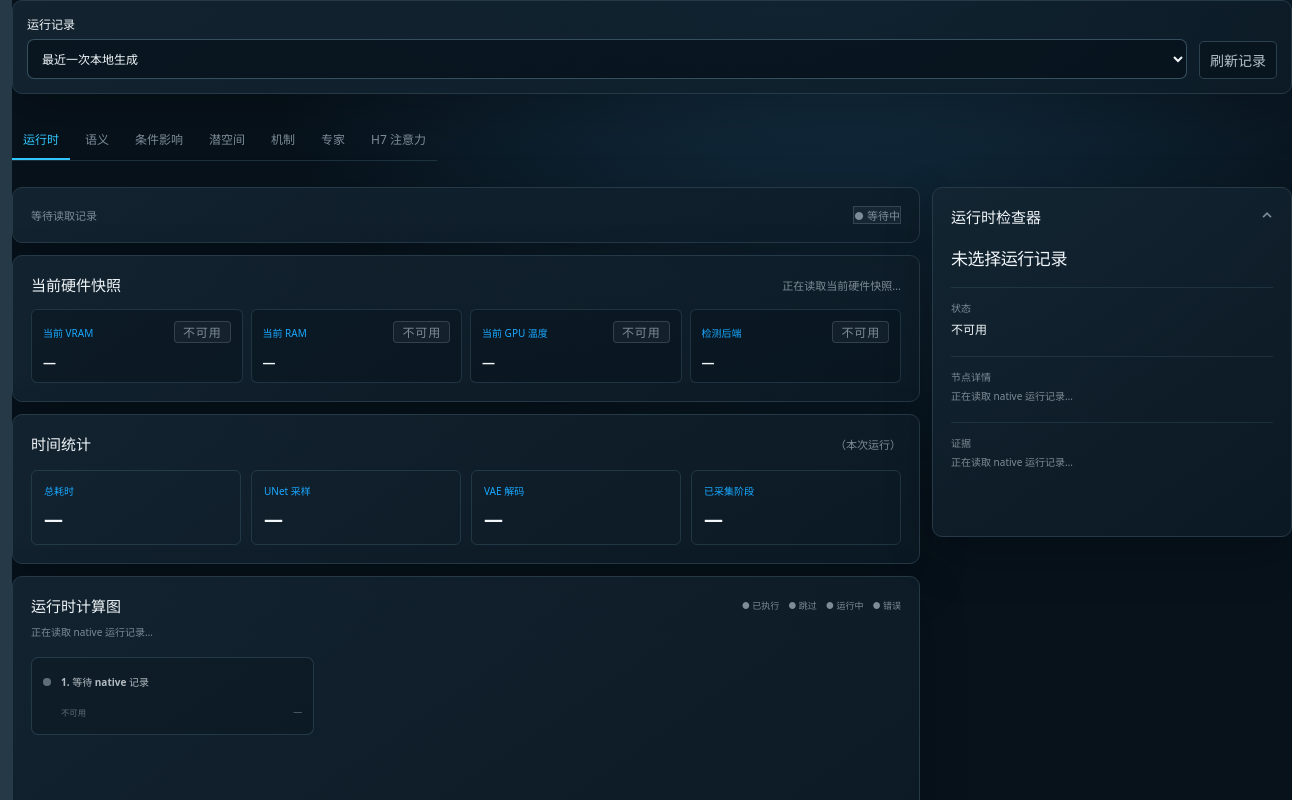
Microscope route-specific capture guidance › explains missing visual capture in H7 注意力 with regeneration advice
The image size is (1292, 800).
Click the tab "H7 注意力": (399, 140) [360, 120, 437, 160]
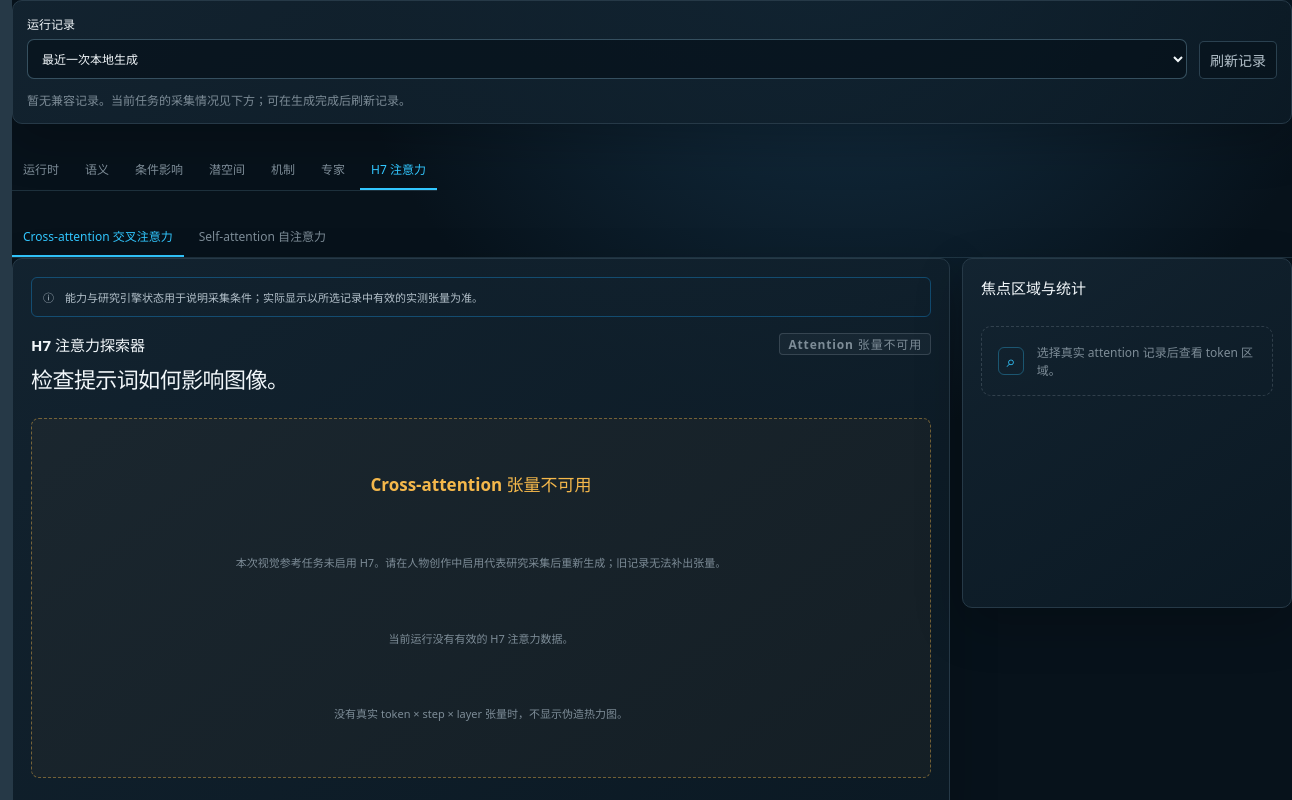
Expected: the text "本次视觉参考任务未启用 H7。请在人物创作中启用代表研究采集后重新生成；旧记录无法补出张量。" is shown, [236, 554, 726, 572]
